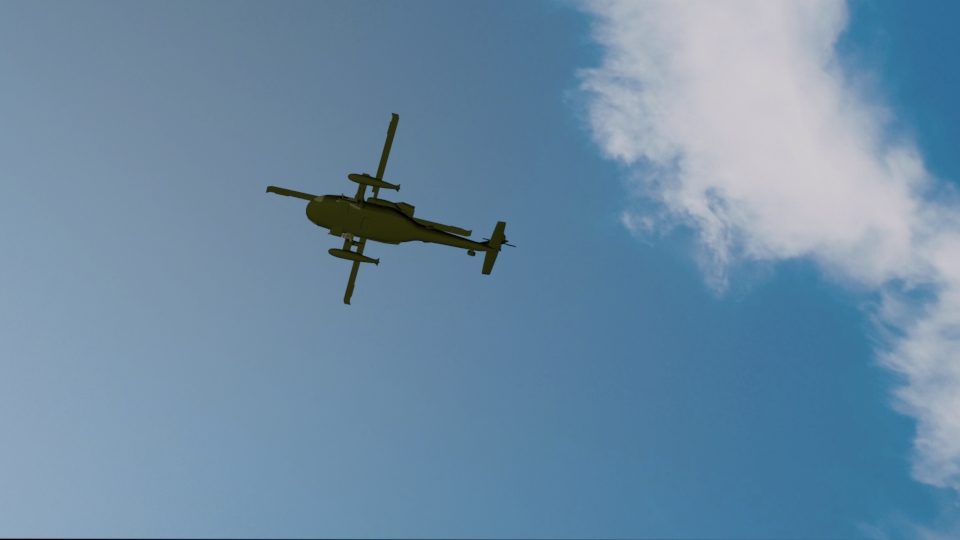heli: (263, 112, 512, 304)
